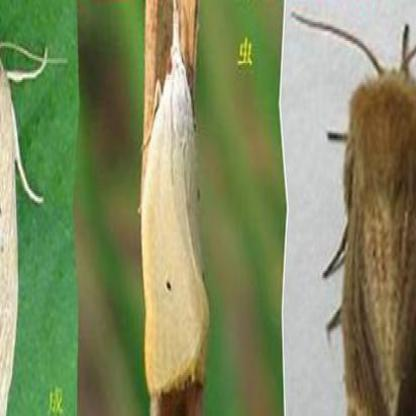stem-borer: (313, 15, 416, 416), (140, 0, 211, 401)
